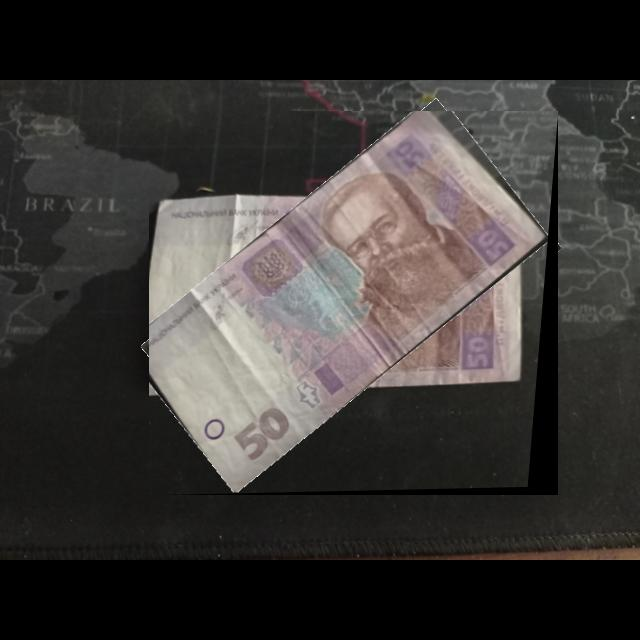50uah: (149, 111, 551, 494)
